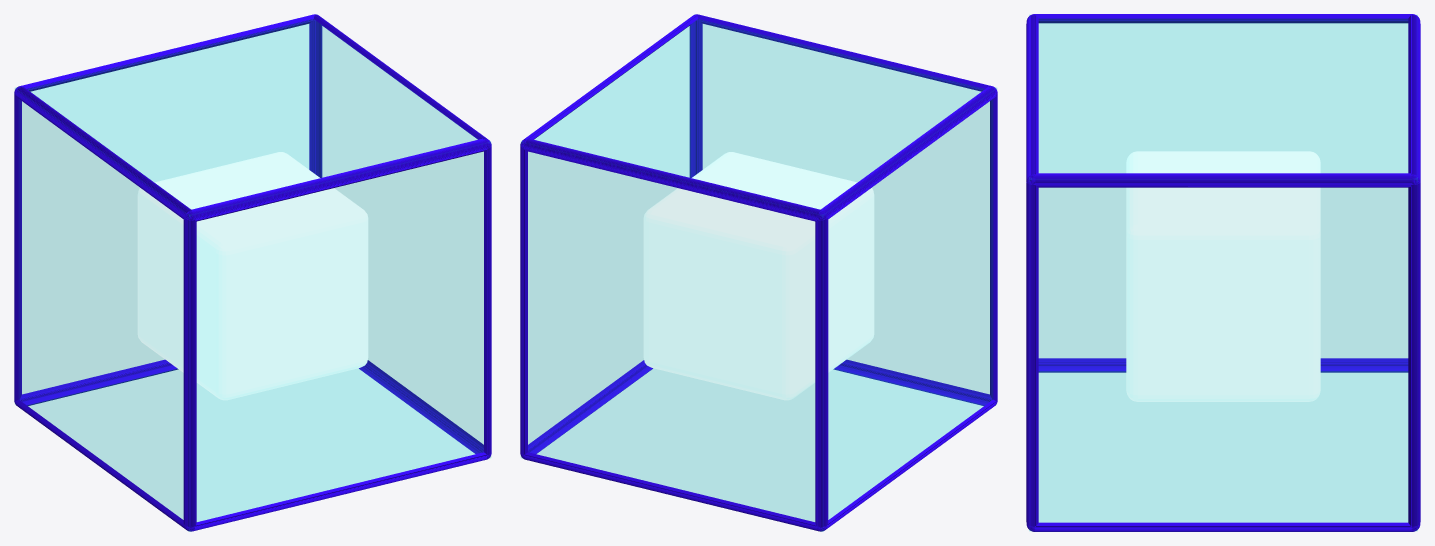
The picture shows the model from 3 angles, left to right: view 1: azimuth 30°, elevation 25°; view 2: azimuth 150°, elevation 25°; view 3: azimuth 270°, elevation 25°; orthographic projection. The views are drawn at different scales.
Parts seen in each view (by area): view 1: secondCube, subCube, mainCube; view 2: secondCube, subCube, mainCube; view 3: secondCube, subCube, mainCube.
Part boxes in pixels (<box>): secondCube: <box>15,20,490,531</box>; subCube: <box>137,152,368,400</box>; mainCube: <box>14,14,491,531</box>; secondCube: <box>521,19,996,531</box>; subCube: <box>643,152,874,400</box>; mainCube: <box>520,14,997,531</box>; secondCube: <box>1029,15,1417,530</box>; subCube: <box>1126,151,1320,401</box>; mainCube: <box>1026,14,1420,531</box>.
Bounding box in the file's own units: 1.62 × 1.62 × 1.62.
